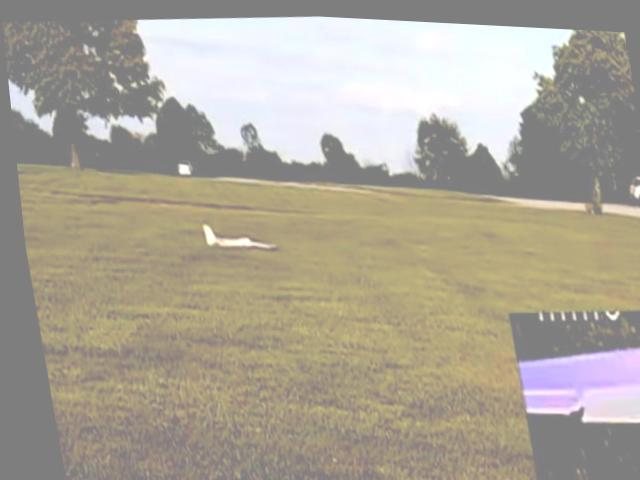iha: (198, 216, 273, 253)
